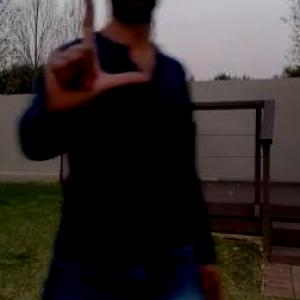land_hand: (42, 0, 158, 125)
